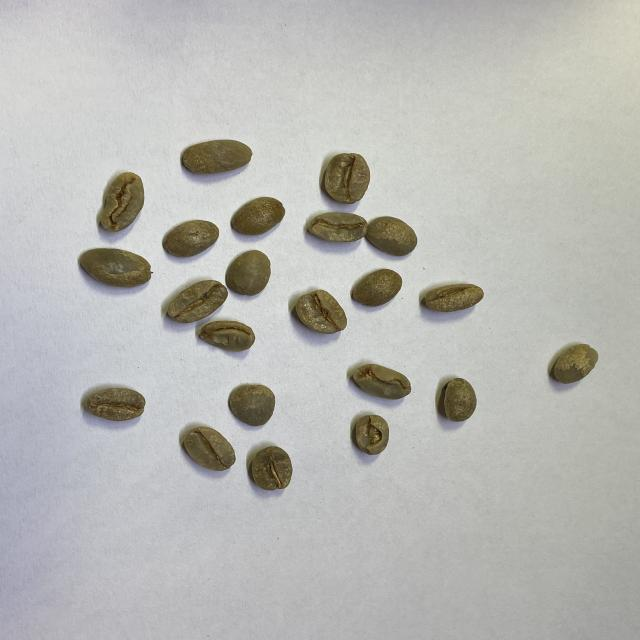bad: (98, 171, 145, 231), (352, 364, 413, 399), (198, 320, 256, 351), (352, 414, 389, 455)
good: (78, 248, 152, 288), (166, 280, 228, 321), (324, 152, 371, 204), (183, 426, 236, 472), (181, 139, 252, 173), (296, 290, 348, 334), (162, 218, 220, 257), (228, 382, 276, 428), (83, 386, 147, 420), (365, 216, 418, 256), (231, 196, 286, 234), (350, 268, 402, 308), (250, 445, 293, 491), (227, 250, 270, 295), (552, 344, 598, 386), (422, 283, 485, 313), (307, 212, 368, 242), (442, 377, 478, 422)
